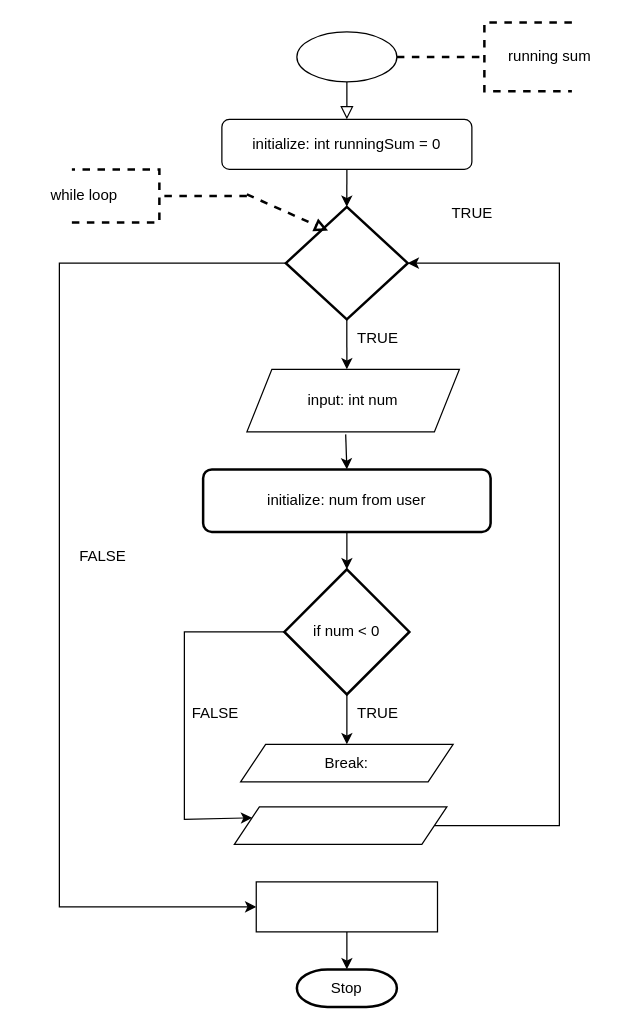
Image size: 618x1030. Some labels were removed from this diagram. Each missing label, with the centre of its shape:
"Print: runningSum" goes at (x=346, y=906).
"runningSum += num" goes at (x=340, y=825).
"Start" goes at (x=346, y=56).
"while" goes at (x=346, y=262).
